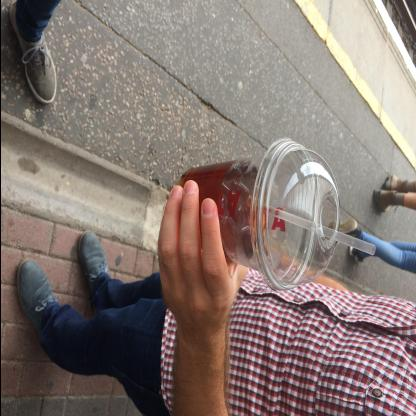plastik: (177, 133, 375, 293)
